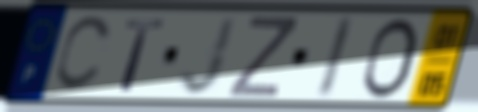C: (51, 13, 116, 95)
I: (314, 14, 358, 101)
J: (177, 14, 240, 98)
O: (357, 15, 421, 102)
T: (117, 16, 168, 94)
Z: (225, 13, 300, 100)
